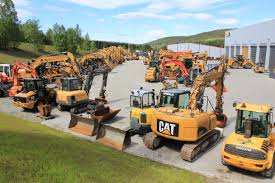excavator: (143, 64, 230, 159), (55, 68, 110, 111)
